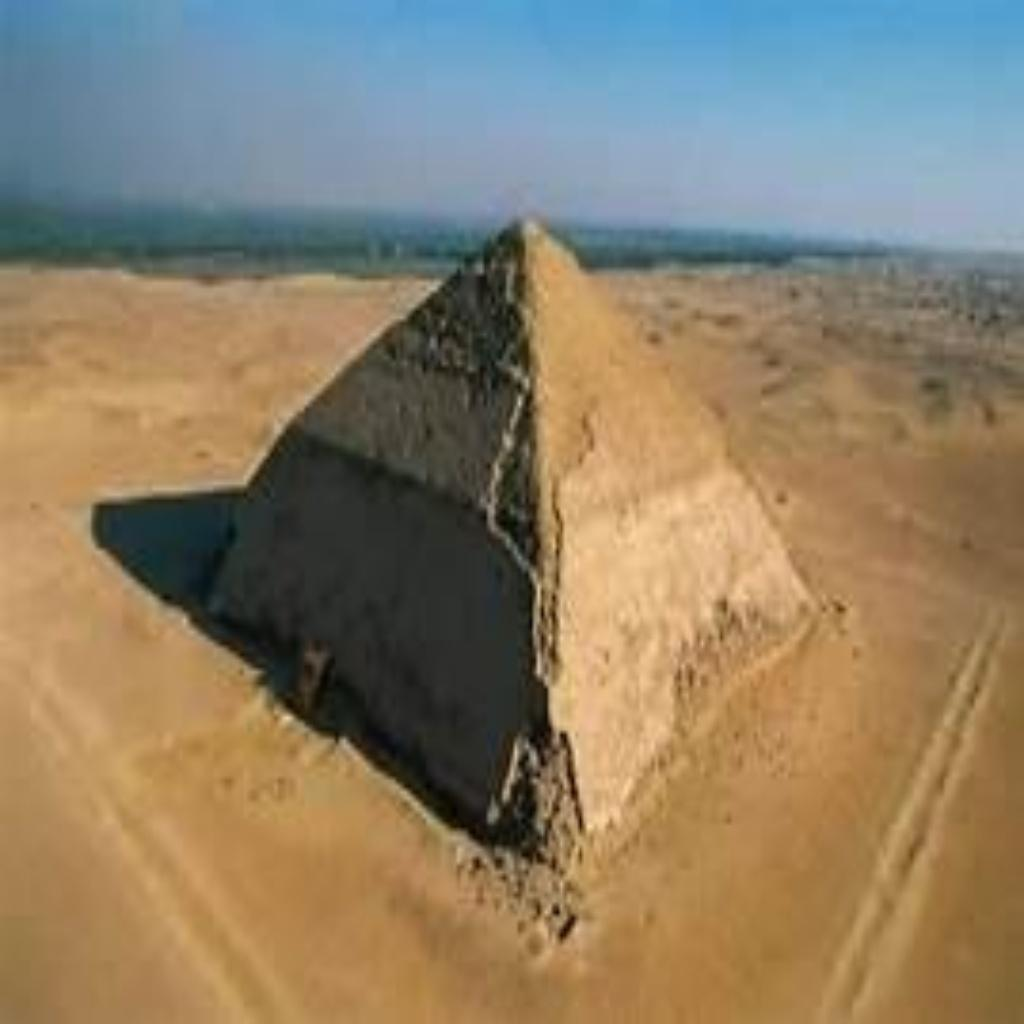Bent Pyramid of King Sneferu: (202, 198, 828, 884)
